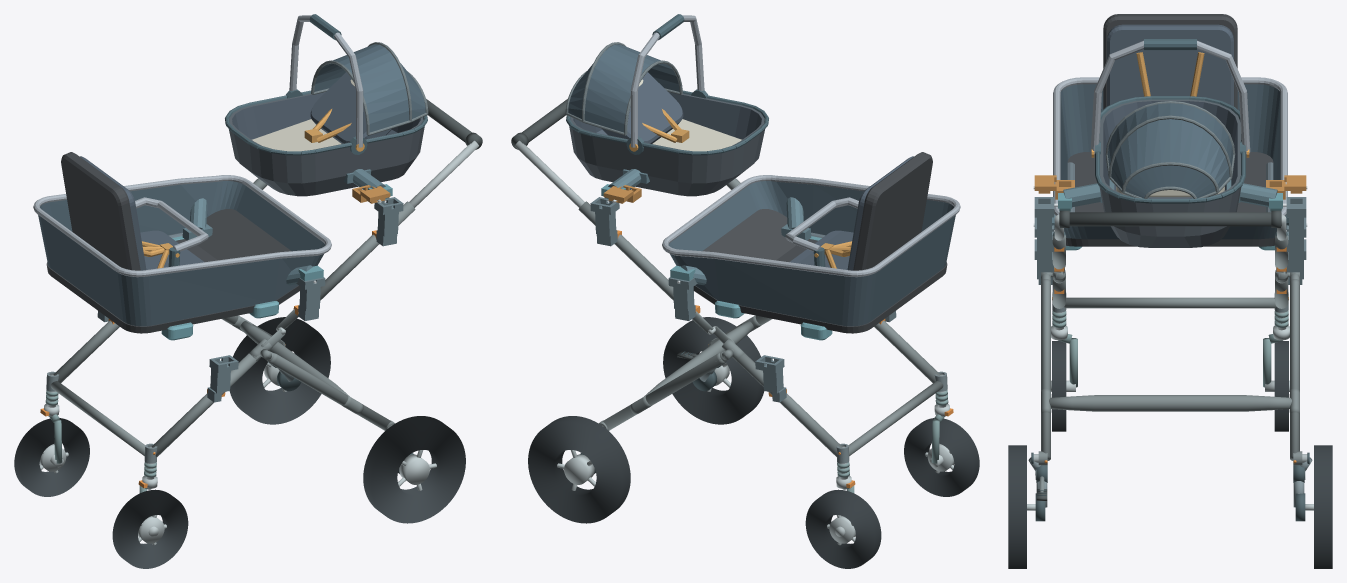
File: D22_w650_state1_wheel_M.glb
The picture shows the model from 3 angles, left to right: view 1: azimuth 30°, elevation 25°; view 2: azimuth 150°, elevation 25°; view 3: azimuth 270°, elevation 25°; orthographic projection. The views are drawn at different scales.
Visible parts, largest first — view 1: D22_Lower, D22_Upper, RL_tire.008, RR_tire.008, FL_tire.008, FR_tire.008, V46_rear_leg_-1.009, main_lower_-1.009, D22_Lower_Mount_M, main_upper_-1.009, front_fixed_round_tube.008, Universal_Cabin_Receiver_H_-1 (+7 smaller); view 2: D22_Lower, D22_Upper, RR_tire.008, RL_tire.008, FR_tire.008, FL_tire.008, V46_rear_leg_1.009, main_lower_1.009, D22_Lower_Mount_M, main_upper_1.009, front_fixed_round_tube.008, Universal_Cabin_Receiver_H_1 (+7 smaller); view 3: D22_Lower, D22_Upper, V46_rearbar.009, round_handle.008, front_fixed_round_tube.008, RL_tire.008, RR_tire.008, D22_Upper_Mount_H, V46_rear_leg_1.009, V46_rear_leg_-1.009, FL_tire.008, FR_tire.008 (+8 smaller).
Boxes of the visible parts, x1,y1,x2,y2 form: D22_Lower: (33,152,331,340); D22_Upper: (225,14,428,196); RL_tire.008: (363,416,465,523); RR_tire.008: (229,317,330,424); FL_tire.008: (112,489,188,568); FR_tire.008: (14,418,89,496); V46_rear_leg_-1.009: (268,353,390,430); main_lower_-1.009: (151,353,260,457); D22_Lower_Mount_M: (182,198,323,285); main_upper_-1.009: (320,201,415,300); front_fixed_round_tube.008: (50,381,145,455); Universal_Cabin_Receiver_H_-1: (374,197,403,246); D22_Lower: (662,152,960,340); D22_Upper: (565,14,768,196); RR_tire.008: (528,416,630,523); RL_tire.008: (663,317,764,424); FR_tire.008: (805,489,881,568); FL_tire.008: (904,418,979,496); V46_rear_leg_1.009: (603,353,725,430); main_lower_1.009: (733,353,842,457); D22_Lower_Mount_M: (670,197,811,285); main_upper_1.009: (578,201,673,300); front_fixed_round_tube.008: (848,381,943,455); Universal_Cabin_Receiver_H_1: (590,197,619,246); D22_Lower: (1053,14,1287,250); D22_Upper: (1090,39,1250,247); V46_rearbar.009: (1049,395,1291,411); round_handle.008: (1059,212,1281,226); front_fixed_round_tube.008: (1064,297,1276,308); RL_tire.008: (1008,445,1026,568); RR_tire.008: (1314,445,1332,568); D22_Upper_Mount_H: (1054,179,1286,211); V46_rear_leg_1.009: (1290,279,1299,460); V46_rear_leg_-1.009: (1041,279,1050,460); FL_tire.008: (1052,341,1066,431); FR_tire.008: (1274,341,1288,431).
Bounding box in the file's own units: 1.16 × 1.37 × 0.7871.
